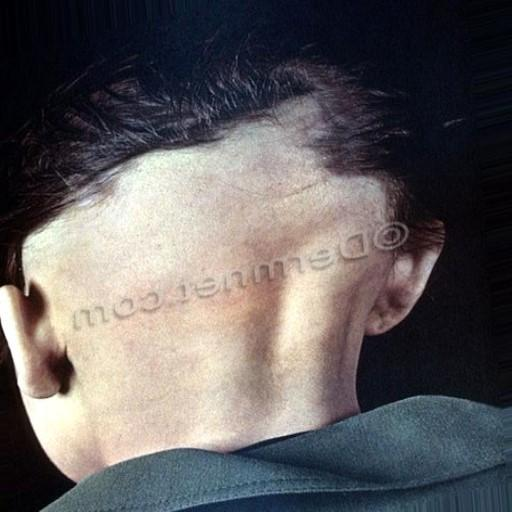Alopecia Areata: (108, 166, 369, 278)
